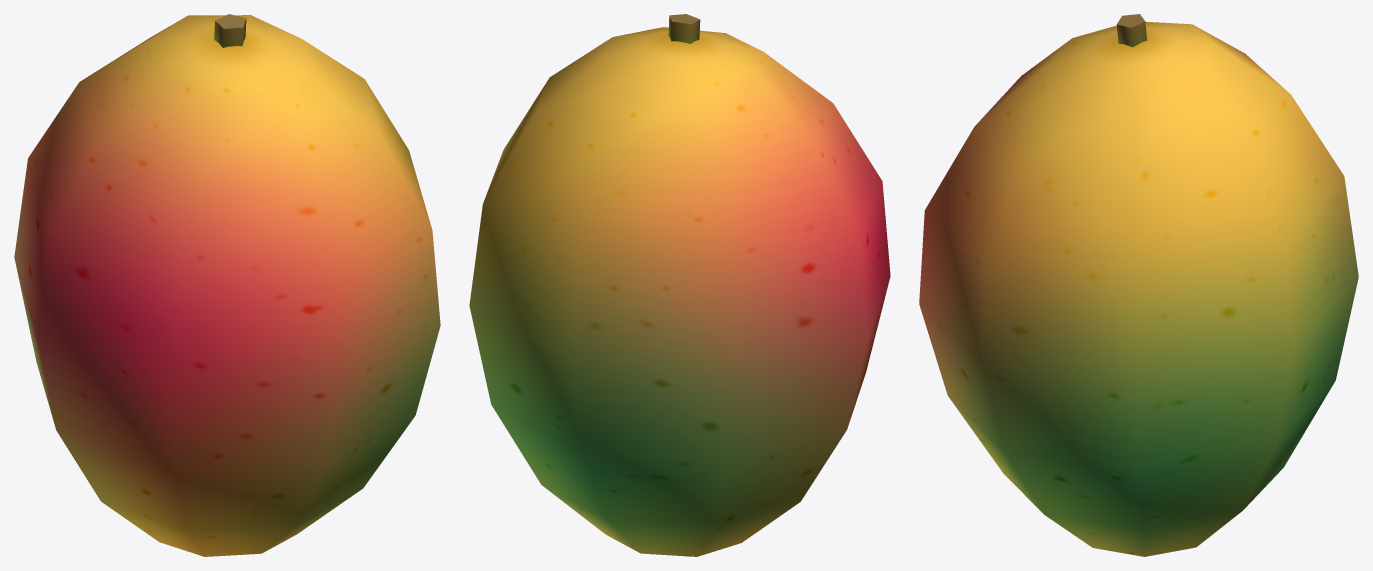
Rendered from mango.fbx.
3 renders of one model, left to right at view 1: azimuth 30°, elevation 25°; view 2: azimuth 150°, elevation 25°; view 3: azimuth 270°, elevation 25°, orthographic.
Visible parts, largest first — view 1: mango_mesh; view 2: mango_mesh; view 3: mango_mesh.
Part boxes in pixels (bbox=[...]): mango_mesh: bbox=[14, 14, 440, 556]; mango_mesh: bbox=[469, 14, 890, 556]; mango_mesh: bbox=[919, 14, 1358, 556].
Size of the model in its own units: 0.7015 by 0.9335 by 0.7077.
